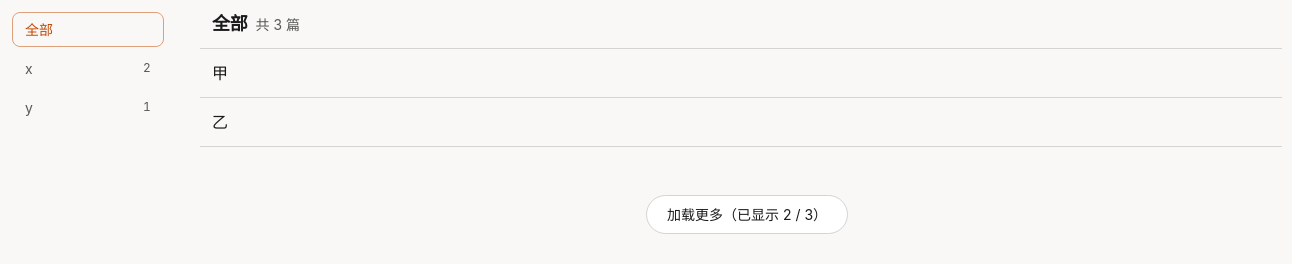
Test: Explorer 正常渲染 › pageSize 启用分批加载与到底文案
Expected: the text "甲" is shown, [212,61,228,85]
Expected: the text "乙" is shown, [212,110,228,134]
Click the button "加载更多（已显示 2 / 3）": (747, 215) [646,195,848,234]
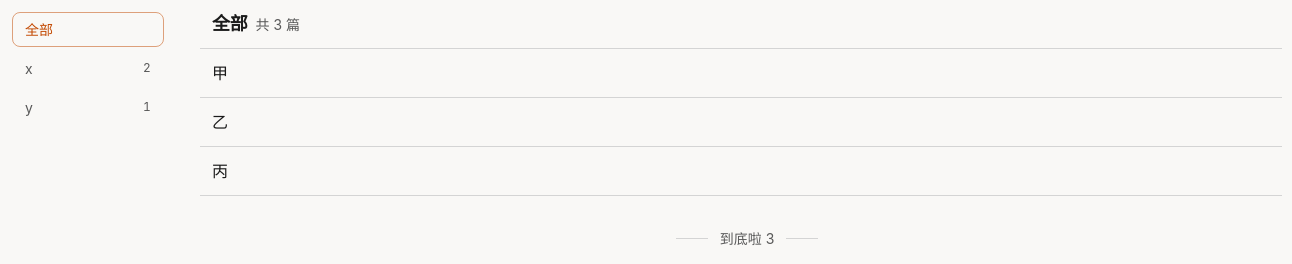
Now the text "丙" is shown, box [212,159,228,183]
Now the text "到底啦 3" is shown, box [720,230,774,247]
